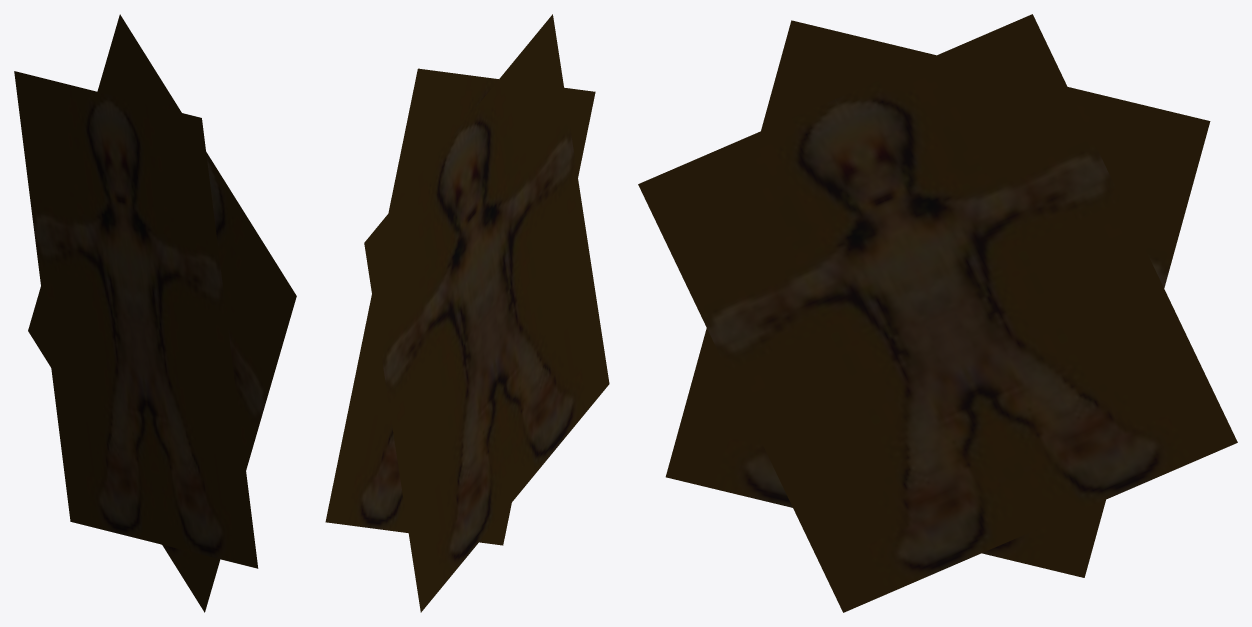
The model's file is sign1_spanish_b_icon_voodoo.fbx.
3 views of the same model, side by side, from view 1: azimuth 30°, elevation 25°; view 2: azimuth 150°, elevation 25°; view 3: azimuth 270°, elevation 25° (orthographic). The views are drawn at different scales.
Visible parts, largest first — view 1: icons; view 2: icons; view 3: icons.
Part boxes in pixels (x1,y1,x2,y2): icons: (14, 14, 296, 612); icons: (325, 14, 609, 612); icons: (638, 14, 1237, 612).
Size of the model in its own units: 16.67 by 326 by 296.
1 material, 1 textured.
